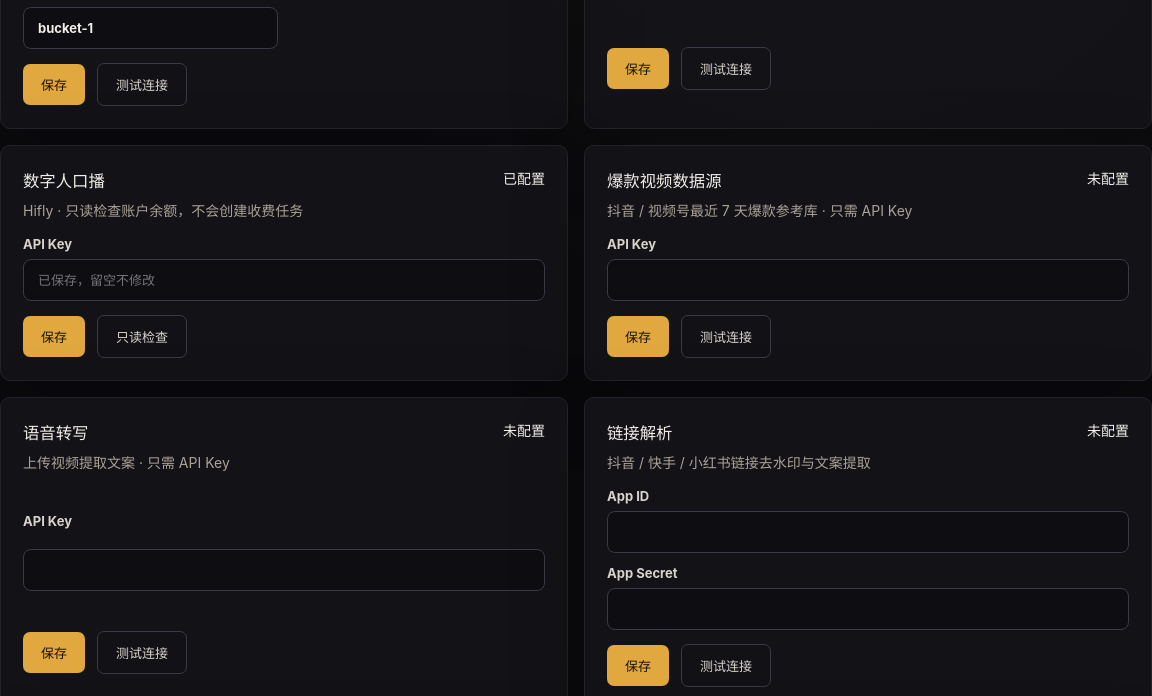
Test: SettingsPanel › shows the Hifly read-only account result without starting a paid task
(page scrolled)
Check: the heading "数字人口播" is shown, box x1=23 y1=171 x2=105 y2=191
Click the button "只读检查" at (142, 337), box x1=97 y1=315 x2=187 y2=358
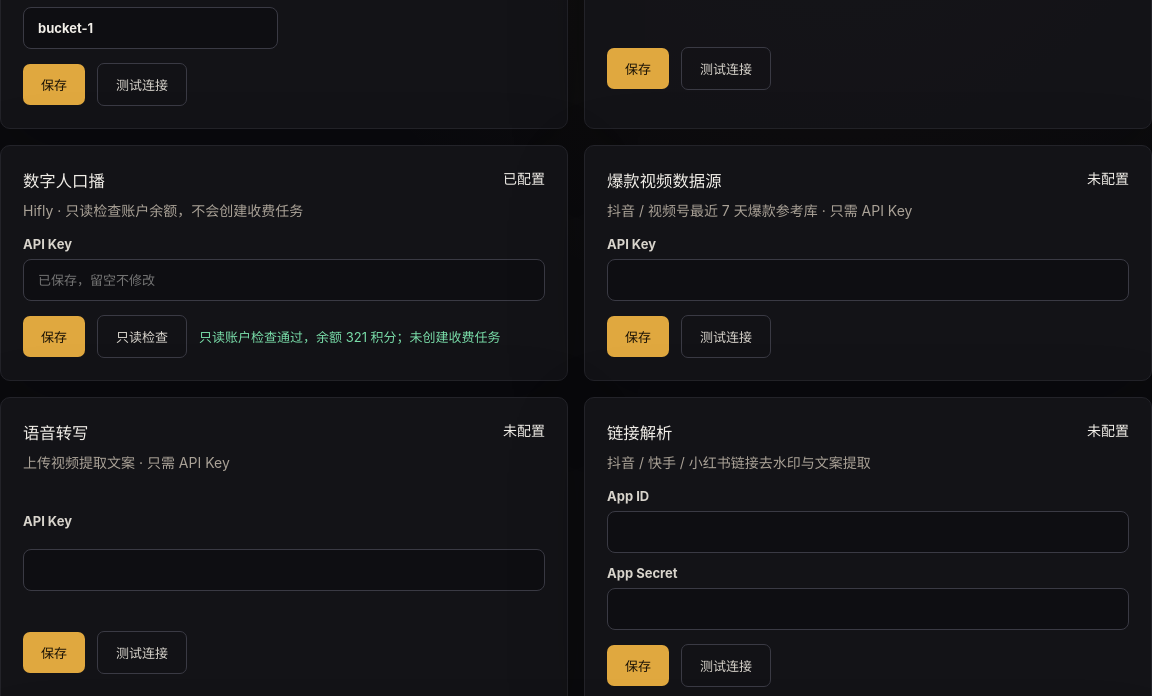
Check: the text "只读账户检查通过，余额 321 积分；未创建收费任务" is shown, box x1=199 y1=327 x2=501 y2=346
